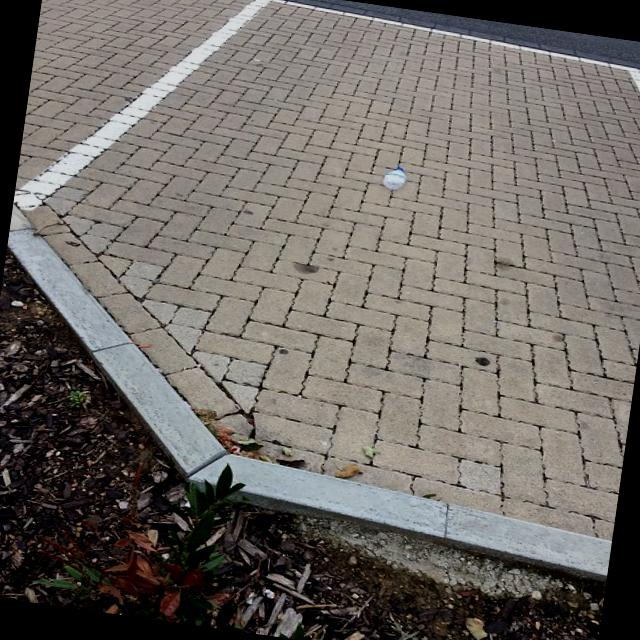Trash: (374, 160, 416, 198)
